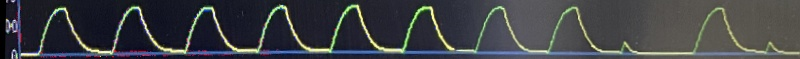normal_volume: (21, 0, 800, 59)
